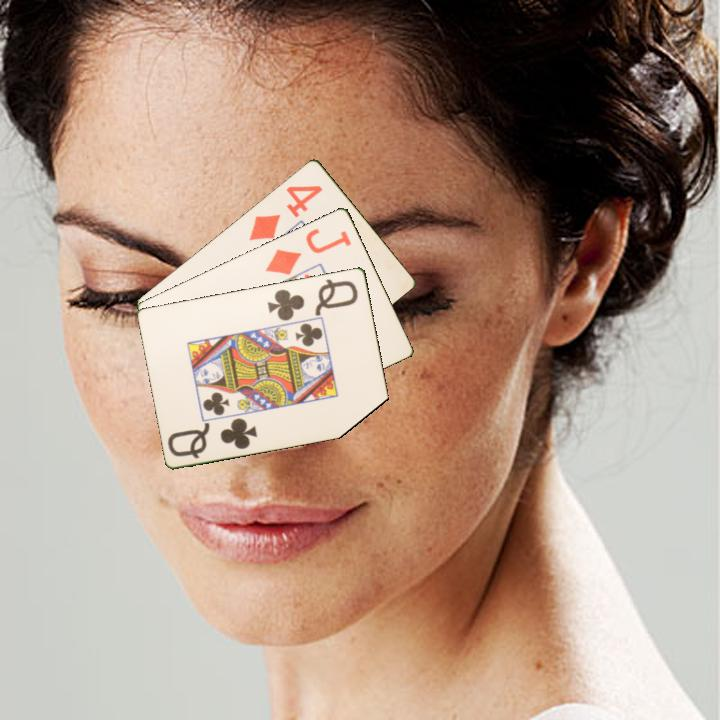4d: (245, 181, 325, 243)
Jd: (262, 224, 354, 278)
Qc: (264, 275, 361, 323), (164, 414, 260, 461)
